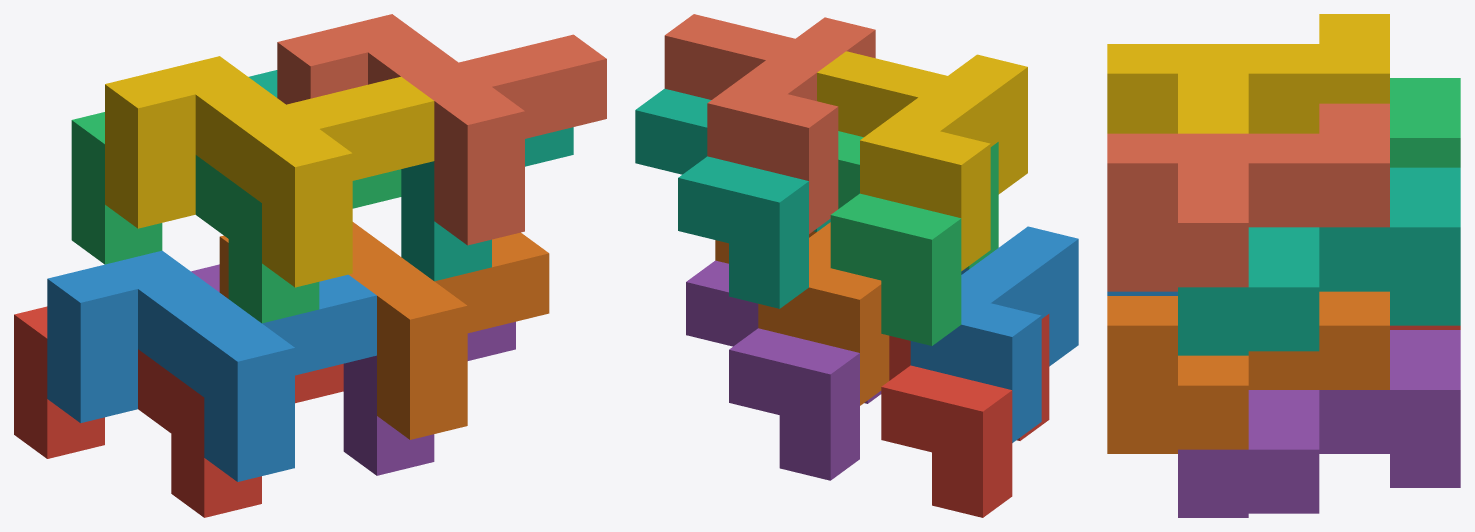
File: tiling.obj
The picture shows the model from 3 angles, left to right: view 1: azimuth 30°, elevation 25°; view 2: azimuth 150°, elevation 25°; view 3: azimuth 270°, elevation 25°; orthographic projection. The views are drawn at different scales.
Parts seen in each view (by area): view 1: copy_1_domain_4, copy_1_domain_2, copy_1_domain_8, copy_1_domain_6, copy_1_domain_3, copy_1_domain_1, copy_1_domain_5, copy_1_domain_7; view 2: copy_1_domain_4, copy_1_domain_8, copy_1_domain_7, copy_1_domain_5, copy_1_domain_2, copy_1_domain_3, copy_1_domain_1, copy_1_domain_6; view 3: copy_1_domain_8, copy_1_domain_7, copy_1_domain_5, copy_1_domain_6, copy_1_domain_4, copy_1_domain_3.
Boxes of the visible parts, <box> form: copy_1_domain_4: <box>105,56,434,287</box>; copy_1_domain_2: <box>47,250,376,481</box>; copy_1_domain_8: <box>277,14,606,245</box>; copy_1_domain_6: <box>219,222,549,439</box>; copy_1_domain_3: <box>71,112,401,323</box>; copy_1_domain_1: <box>14,306,343,517</box>; copy_1_domain_5: <box>191,264,515,475</box>; copy_1_domain_7: <box>249,70,573,281</box>; copy_1_domain_4: <box>817,51,1027,271</box>; copy_1_domain_8: <box>664,14,875,233</box>; copy_1_domain_7: <box>635,88,830,308</box>; copy_1_domain_5: <box>686,260,881,480</box>; copy_1_domain_2: <box>910,226,1078,442</box>; copy_1_domain_3: <box>830,131,998,345</box>; copy_1_domain_1: <box>881,314,1049,517</box>; copy_1_domain_6: <box>715,222,889,405</box>; copy_1_domain_8: <box>1107,103,1389,291</box>; copy_1_domain_7: <box>1178,167,1460,355</box>; copy_1_domain_5: <box>1178,330,1460,517</box>; copy_1_domain_6: <box>1107,291,1389,453</box>; copy_1_domain_4: <box>1107,14,1389,133</box>; copy_1_domain_3: <box>1390,78,1460,167</box>.
Size of the model in its own units: 8 by 6 by 5.
